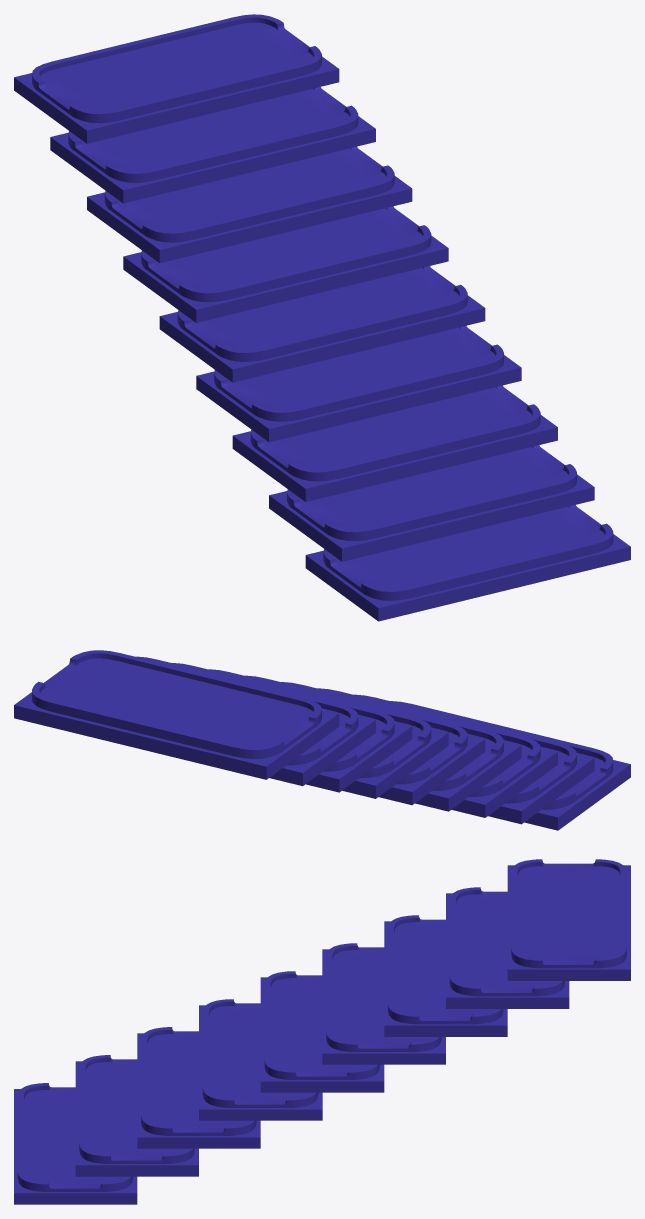
File: Stairs.FBX
The picture shows the model from 3 angles, top to bottom: view 1: azimuth 30°, elevation 25°; view 2: azimuth 150°, elevation 25°; view 3: azimuth 270°, elevation 25°; orthographic projection. The views are drawn at different scales.
Visible parts, largest first — view 1: Stairs; view 2: Stairs; view 3: Stairs.
Boxes of the visible parts, x1,y1,x2,y2 form: Stairs: (14, 14, 630, 621); Stairs: (14, 650, 630, 830); Stairs: (14, 859, 630, 1204).
Size of the model in its own units: 200 by 217 by 500.
